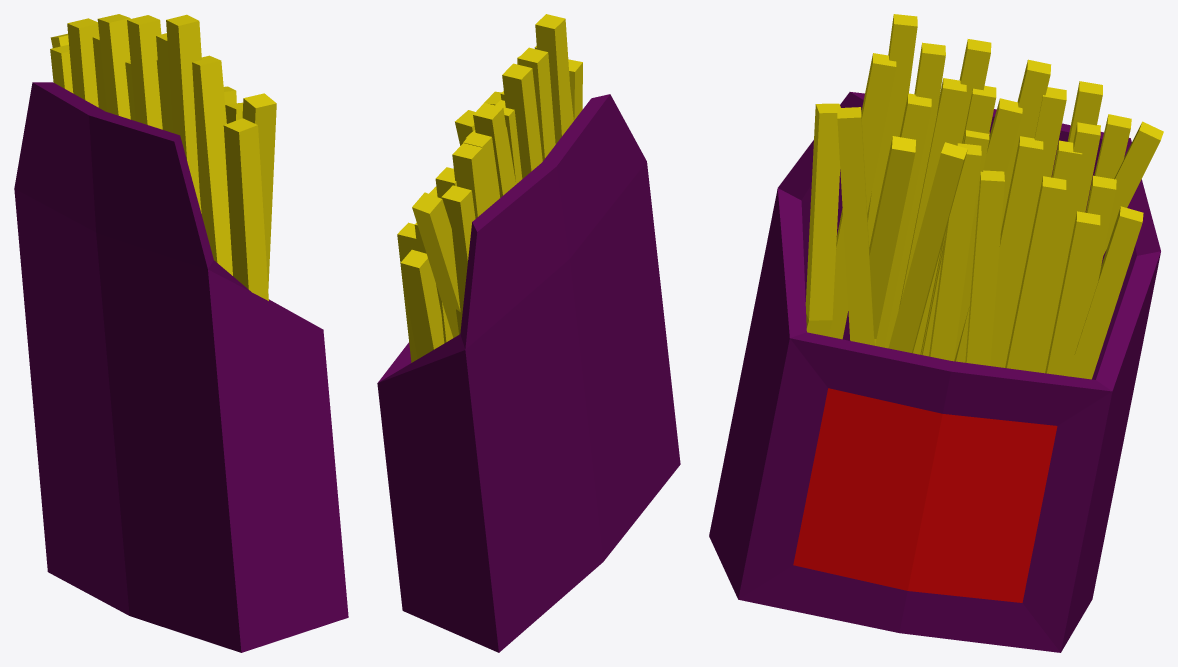
File: Froys.fbx
3 renders of one model, left to right at view 1: azimuth 30°, elevation 25°; view 2: azimuth 150°, elevation 25°; view 3: azimuth 270°, elevation 25°, orthographic. The views are drawn at different scales.
Visible parts, largest first — view 1: Cube; view 2: Cube; view 3: Cube.
Boxes of the visible parts, x1,y1,x2,y2 form: Cube: (14, 14, 348, 652); Cube: (377, 14, 680, 652); Cube: (709, 14, 1163, 652).
Size of the model in its own units: 10.62 by 40.87 by 28.12.
